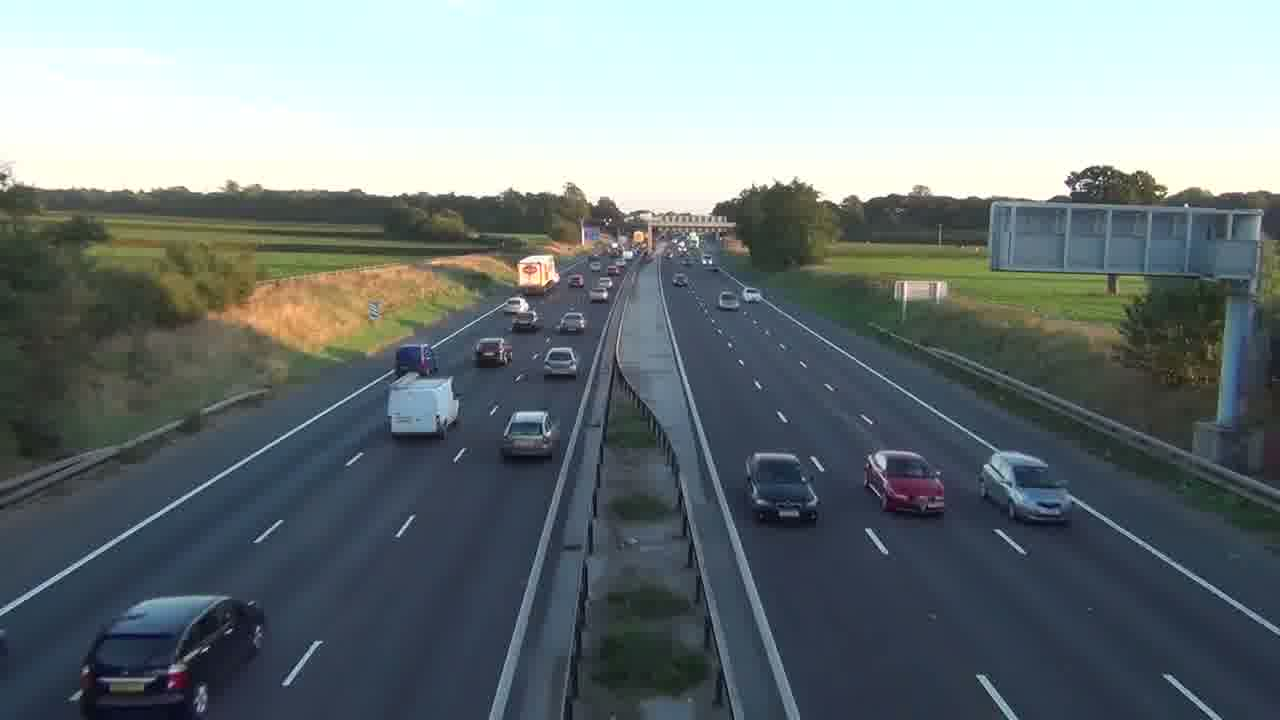bus: (518, 253, 560, 295)
car: (68, 592, 266, 716), (978, 449, 1074, 526), (744, 450, 822, 525), (863, 448, 946, 517), (501, 409, 559, 458), (473, 337, 512, 367), (543, 346, 579, 377), (557, 309, 586, 334), (718, 291, 739, 309)
truck: (387, 375, 462, 439)
